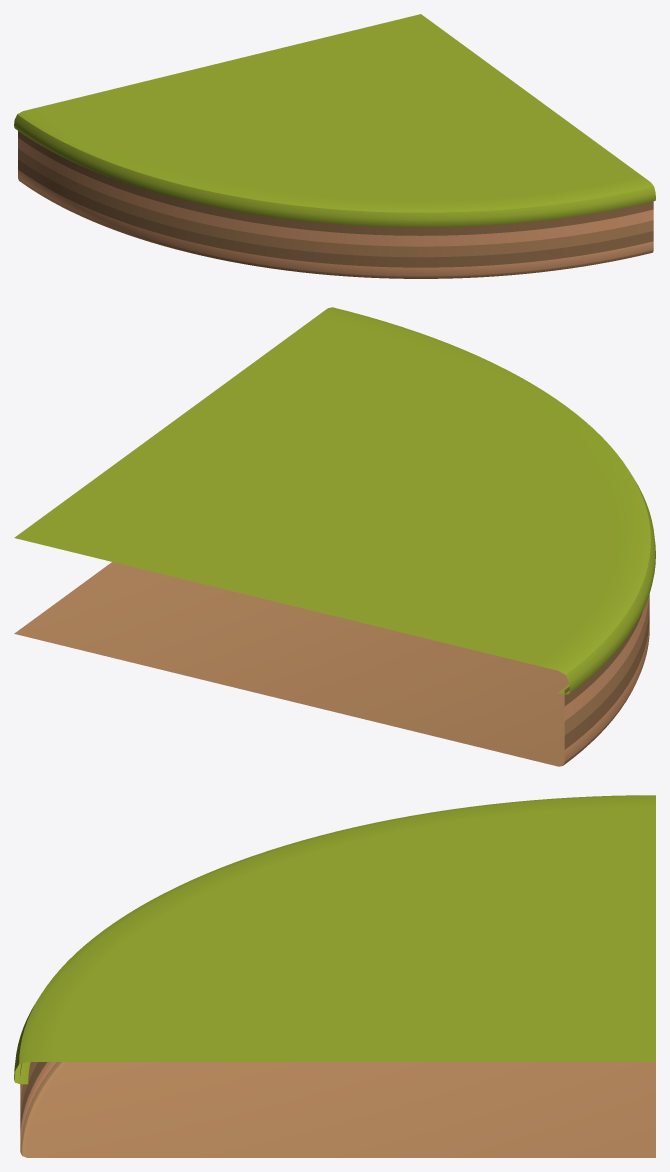
The model's file is platform_grass_corner_round6.gltf.
The picture shows the model from 3 angles, top to bottom: view 1: azimuth 30°, elevation 25°; view 2: azimuth 150°, elevation 25°; view 3: azimuth 270°, elevation 25°; orthographic projection. The views are drawn at different scales.
Visible parts, largest first — view 1: Cube_Grass_Corner_Round6; view 2: Cube_Grass_Corner_Round6; view 3: Cube_Grass_Corner_Round6.
Part boxes in pixels (x1,y1,x2,y2): Cube_Grass_Corner_Round6: (14,14,655,278); Cube_Grass_Corner_Round6: (14,307,655,766); Cube_Grass_Corner_Round6: (14,795,655,1157).
Bounding box in the file's own units: 12.12 × 2 × 12.12.
